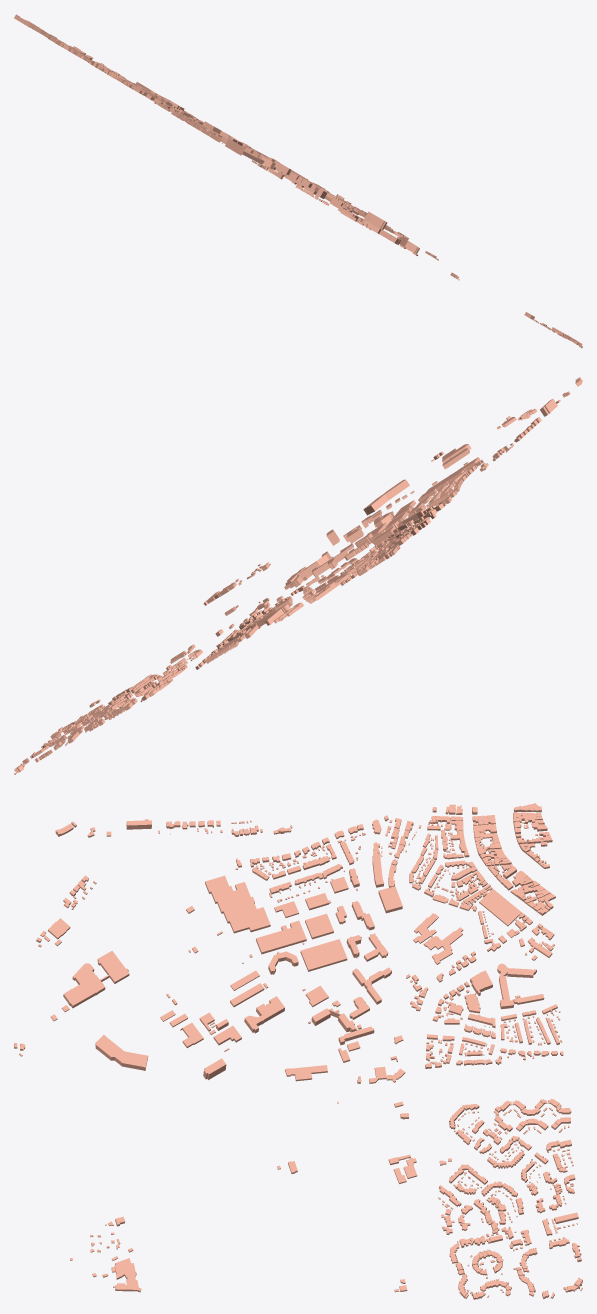
3 views of the same model, one above another, from view 1: azimuth 30°, elevation 25°; view 2: azimuth 150°, elevation 25°; view 3: azimuth 270°, elevation 25° (orthographic). The views are drawn at different scales.
Bounding box in the file's own units: 998 × 751 × 1239.
